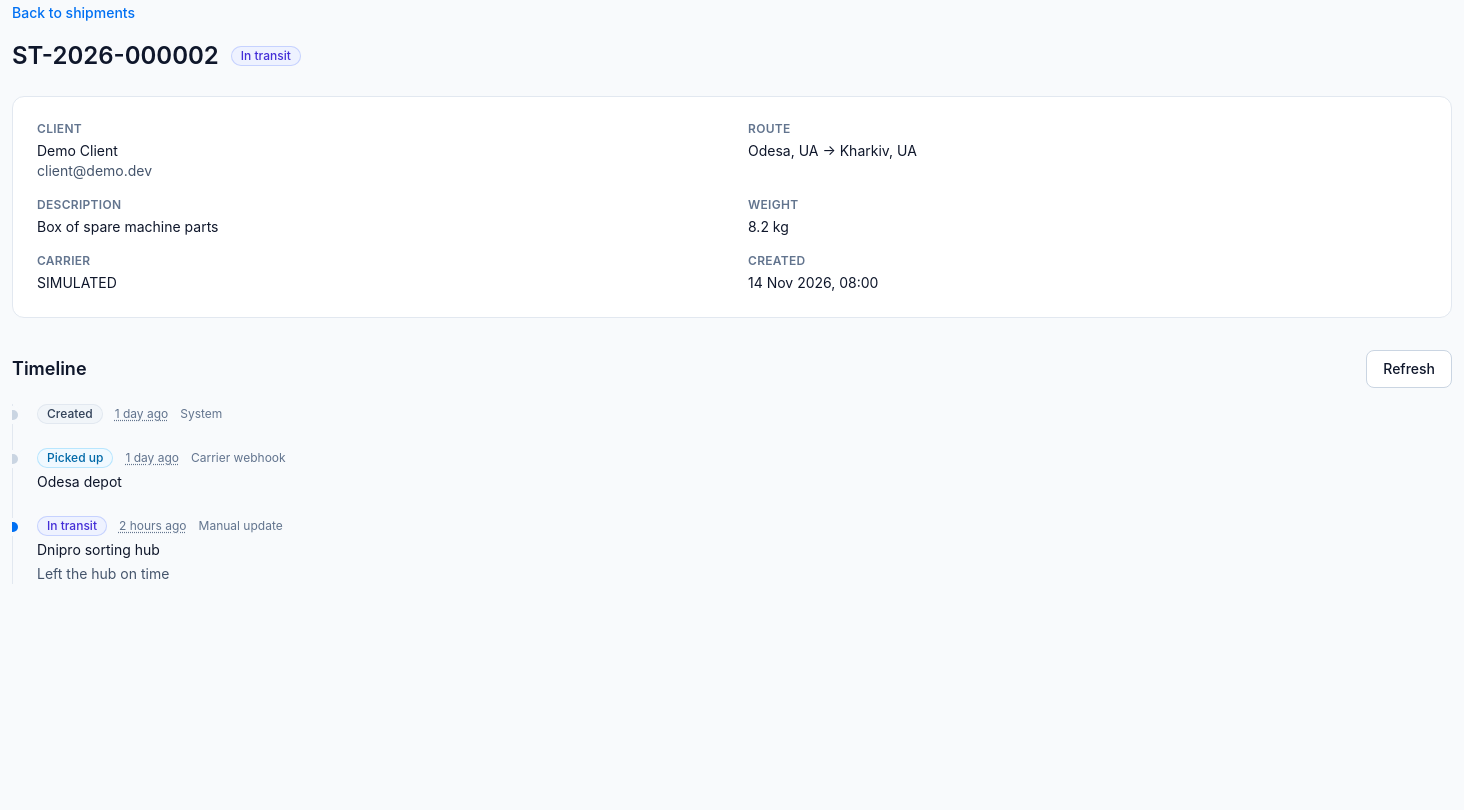
Test case: ShipmentDetailView › keeps the timeline when "Refresh" fails
The width and height of the screenshot is (1464, 810).
Expected: the list named "Movement timeline" is shown, left=12, top=404, right=1452, bottom=584
Click the button "Refresh" at (1409, 369), box left=1366, top=350, right=1452, bottom=388
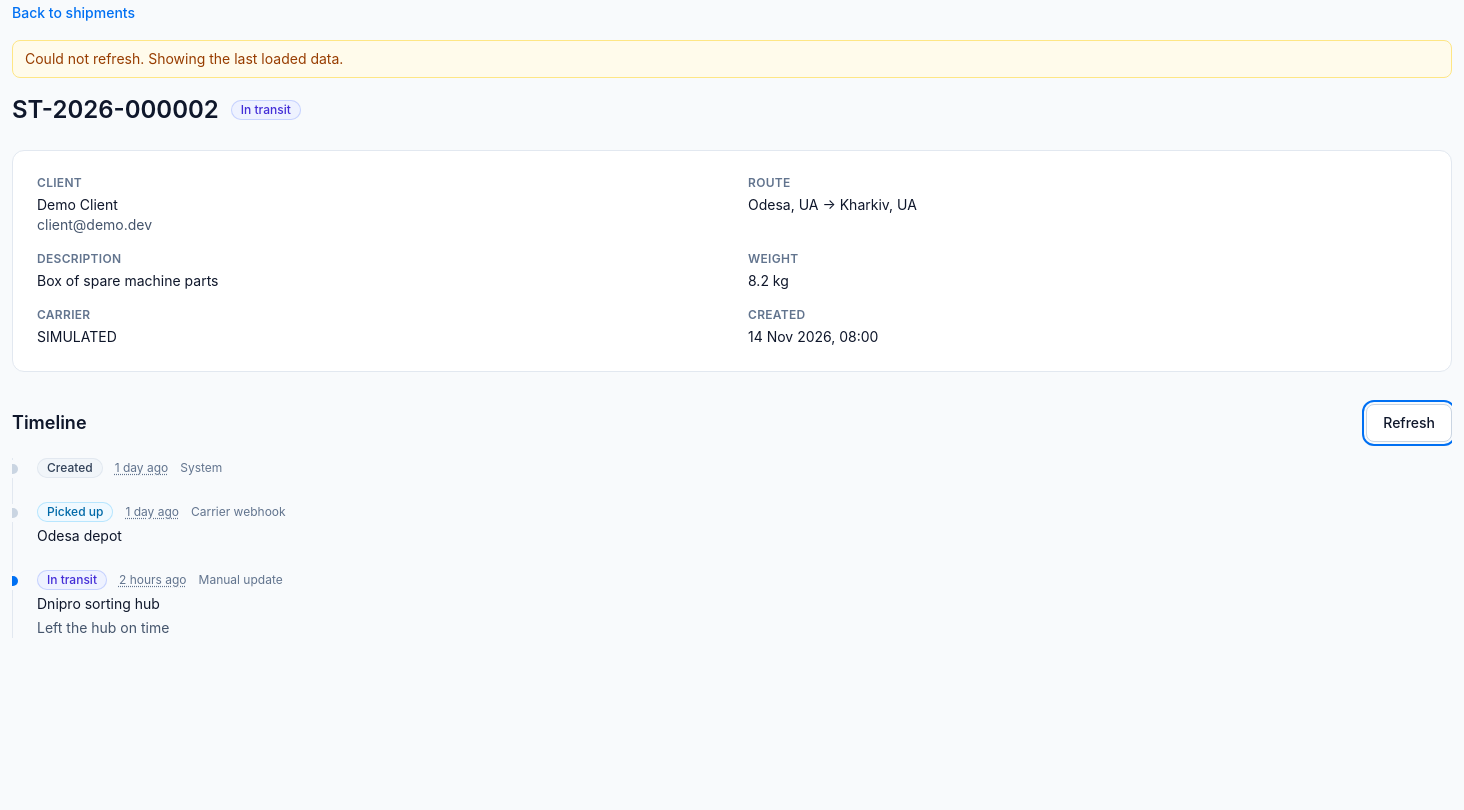
Expected: the number of list items is 3, left=37, top=458, right=222, bottom=478; left=37, top=502, right=286, bottom=544; left=37, top=570, right=283, bottom=636
Expected: the message reads "Could not refresh. Showing the last loaded data.", left=25, top=50, right=343, bottom=67
